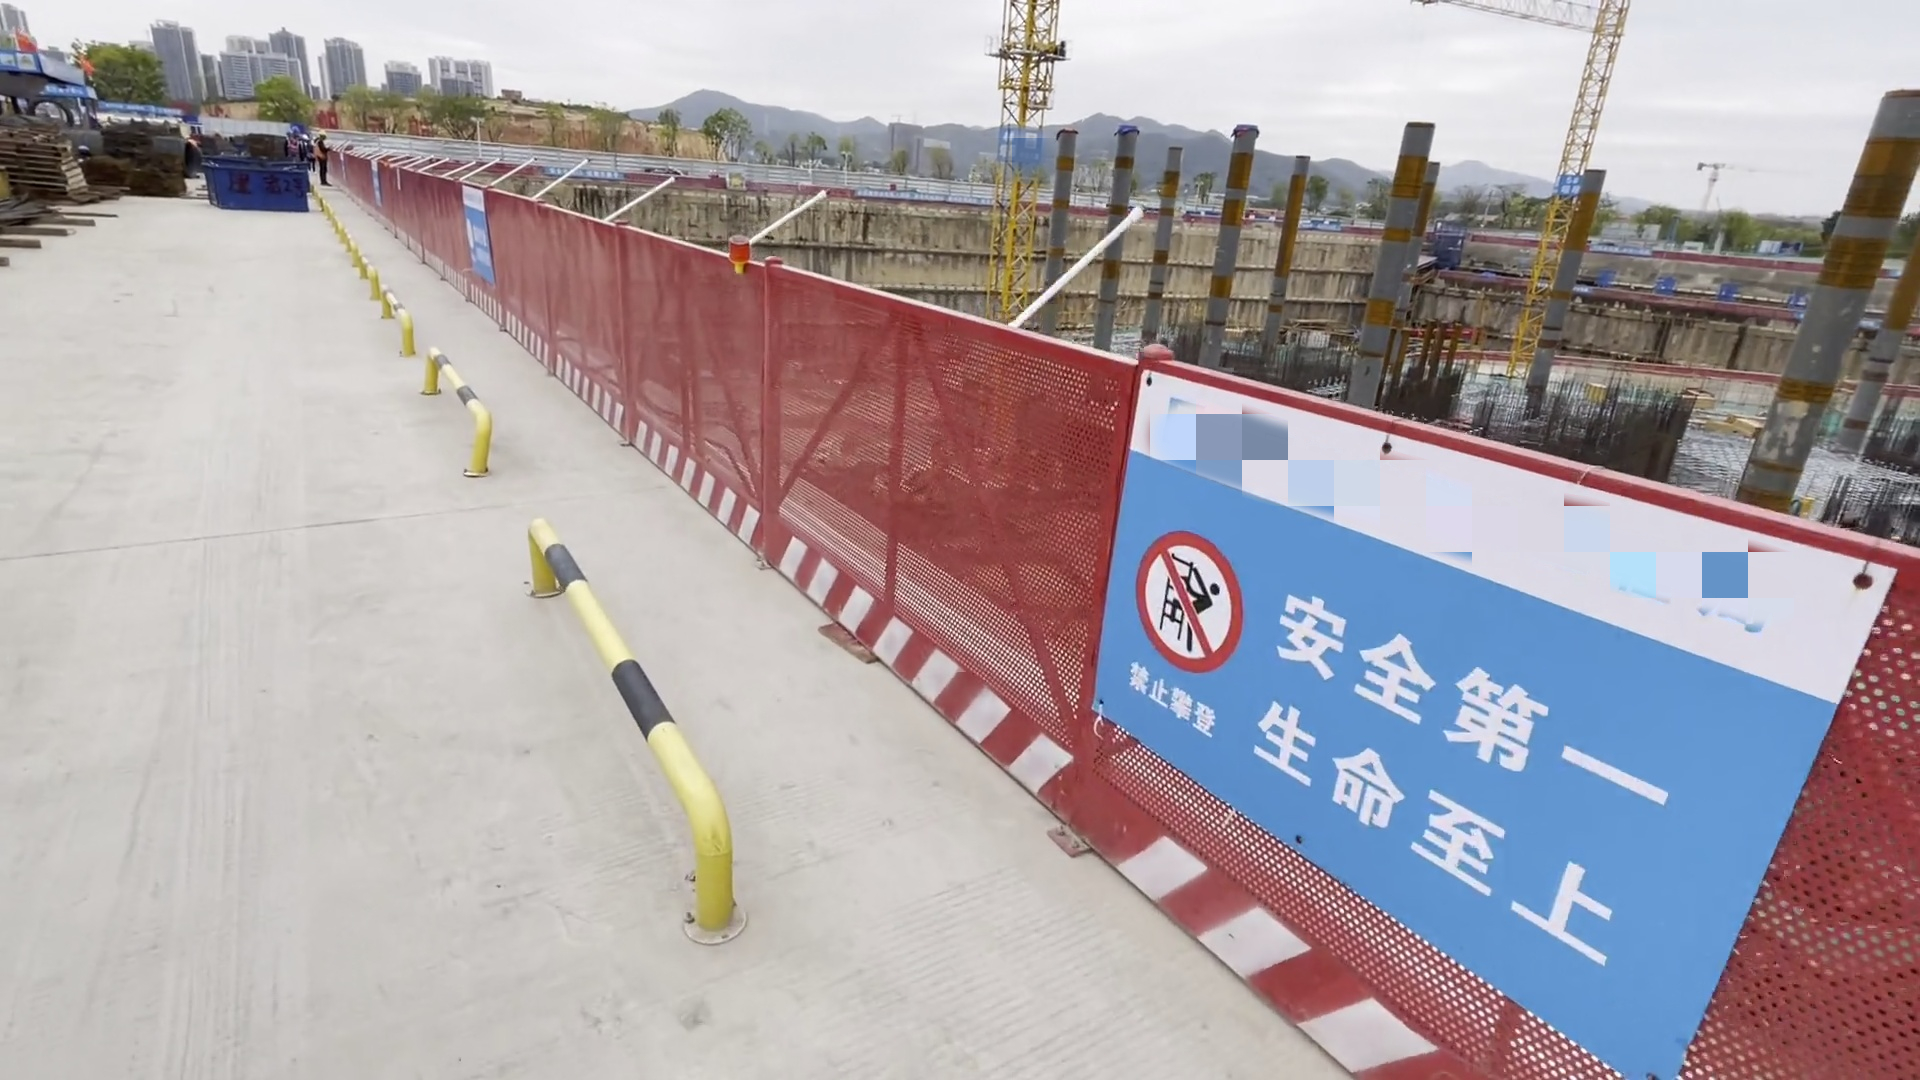fence: (331, 138, 1114, 831)
hopper: (209, 162, 306, 212)
person: (313, 130, 333, 186)
slogan: (1107, 405, 1731, 968)
